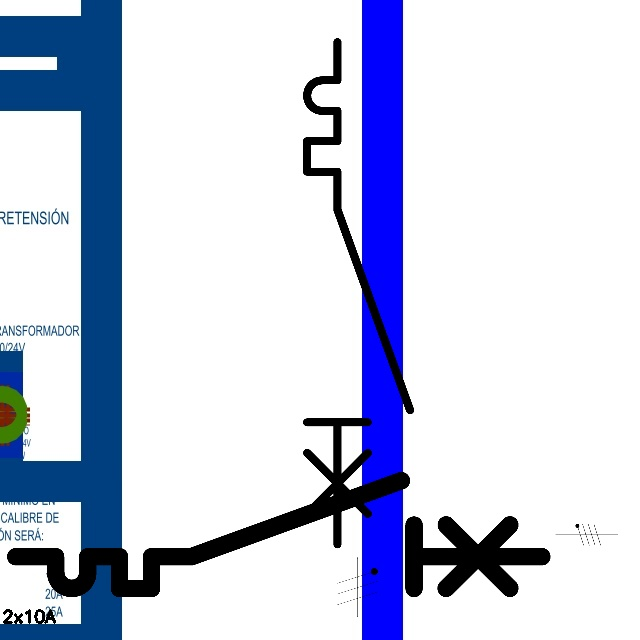interruptor_termomagnetico: (2, 467, 555, 602), (294, 29, 423, 557)
